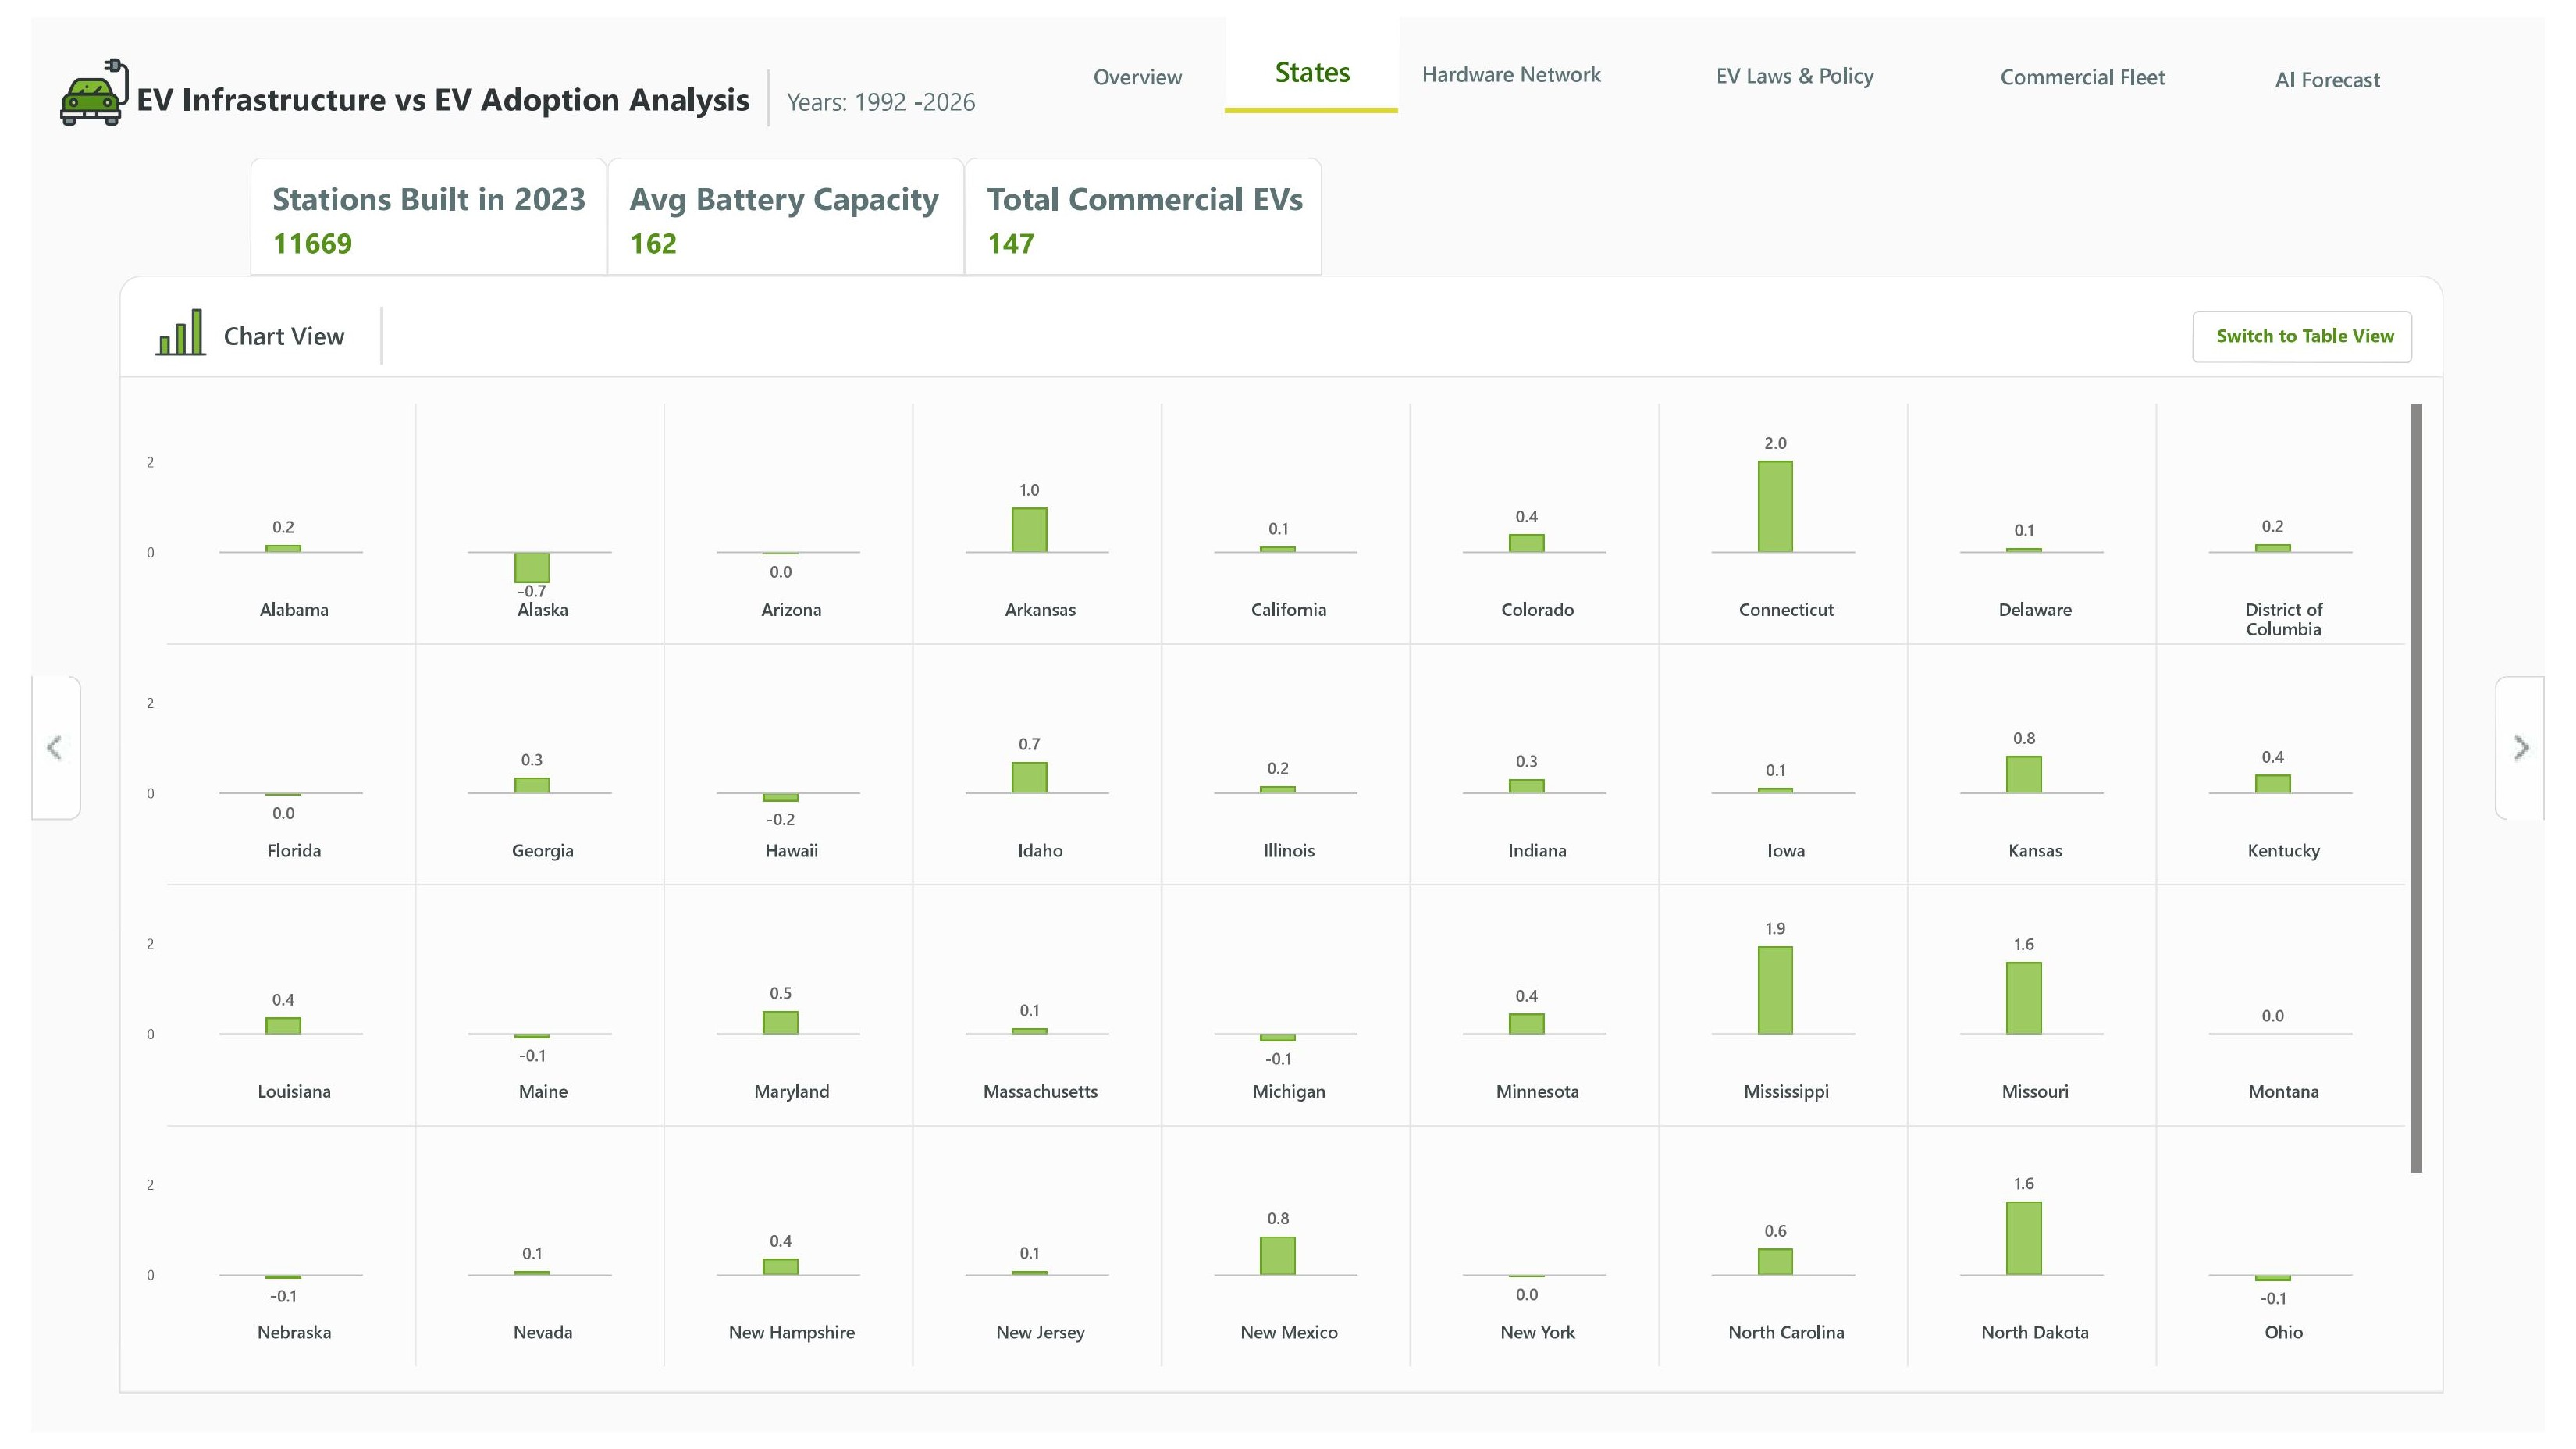

What the dashboard file says about the page in this screenshot:
{"tool":"powerbi","page":{"name":"State-by-State Breakdown - 2","canvas":[1920,1080],"ordinal":2},"visuals":[{"type":"shape","title":"Container Frame","box":[66.7,196.7,1776.7,853.3],"z":0},{"type":"clusteredColumnChart","title":"CAGR Total Vehicles Sold by States","fields":{"Rows":["dim_state.State_Name"],"Y":["Key Measures.YoY Growth %"]},"box":[67,274.3,1776,777.1],"z":0,"group":"g1"},{"type":"actionButton","title":"Button Previous","box":[0,503.3,38.3,110],"z":1000},{"type":"group","id":"g1","title":"CAGR by State Chart ","box":[67,274.3,1776,777.1],"z":2000},{"type":"image","box":[90,218.3,48.3,45],"z":4000},{"type":"shape","box":[146.7,221.7,116.7,40],"z":5000},{"type":"actionButton","box":[1651.1,224.4,168,40],"z":6000},{"type":"shape","box":[261.4,221.2,12.9,44.3],"z":8000},{"type":"shape","box":[80,36.7,531.7,48.3],"z":9000},{"type":"image","box":[15,31.2,65,51.7],"z":10000},{"type":"shape","box":[576.7,45,268.3,36.7],"z":11000},{"type":"shape","box":[556.7,40,13.3,43.3],"z":12000},{"type":"cardVisual","title":"Slicer :Total Sales/EV Sales/EVPR%","fields":{"Data":["Key Measures.Stations Built in 2023","Key Measures.Avg Battery Capacity","Key Measures.Total Commercial EVs"]},"box":[166.7,106.7,820,90],"z":13000},{"type":"shape","box":[913.3,0,132,46],"z":14000},{"type":"shape","box":[912.2,58.9,132,24],"z":15000},{"type":"actionButton","box":[780,21.4,131.2,48.8],"z":16000},{"type":"actionButton","box":[1035.7,18.6,190,48.6],"z":17000},{"type":"actionButton","box":[1225.7,18.6,242.9,51.4],"z":18000},{"type":"actionButton","box":[1468.9,21.1,196.7,48.9],"z":19000},{"type":"actionButton","box":[1665.6,23.3,177.1,48.6],"z":20000},{"type":"actionButton","box":[1881.7,503.3,38.8,110],"z":21000},{"type":"actionButton","box":[912.9,17.1,132.2,50],"z":22000}]}

Visuals, with their boxes on the page's 1920x1080 design canvas (x1, y1, x2, y2). These are canvas units, not pixel positions in the 2576x1449 screenshot, which may show the page scaled, cropped or inside an application window:
"Container Frame" shape: [x1=67, y1=197, x2=1843, y2=1050]
"CAGR Total Vehicles Sold by States" clusteredColumnChart: [x1=67, y1=274, x2=1843, y2=1051]
"Button Previous" actionButton: [x1=0, y1=503, x2=38, y2=613]
"CAGR by State Chart " group: [x1=67, y1=274, x2=1843, y2=1051]
image: [x1=90, y1=218, x2=138, y2=263]
shape: [x1=147, y1=222, x2=263, y2=262]
actionButton: [x1=1651, y1=224, x2=1819, y2=264]
shape: [x1=261, y1=221, x2=274, y2=266]
shape: [x1=80, y1=37, x2=612, y2=85]
image: [x1=15, y1=31, x2=80, y2=83]
shape: [x1=577, y1=45, x2=845, y2=82]
shape: [x1=557, y1=40, x2=570, y2=83]
"Slicer :Total Sales/EV Sales/EVPR%" cardVisual: [x1=167, y1=107, x2=987, y2=197]
shape: [x1=913, y1=0, x2=1045, y2=46]
shape: [x1=912, y1=59, x2=1044, y2=83]
actionButton: [x1=780, y1=21, x2=911, y2=70]
actionButton: [x1=1036, y1=19, x2=1226, y2=67]
actionButton: [x1=1226, y1=19, x2=1469, y2=70]
actionButton: [x1=1469, y1=21, x2=1666, y2=70]
actionButton: [x1=1666, y1=23, x2=1843, y2=72]
actionButton: [x1=1882, y1=503, x2=1920, y2=613]
actionButton: [x1=913, y1=17, x2=1045, y2=67]
